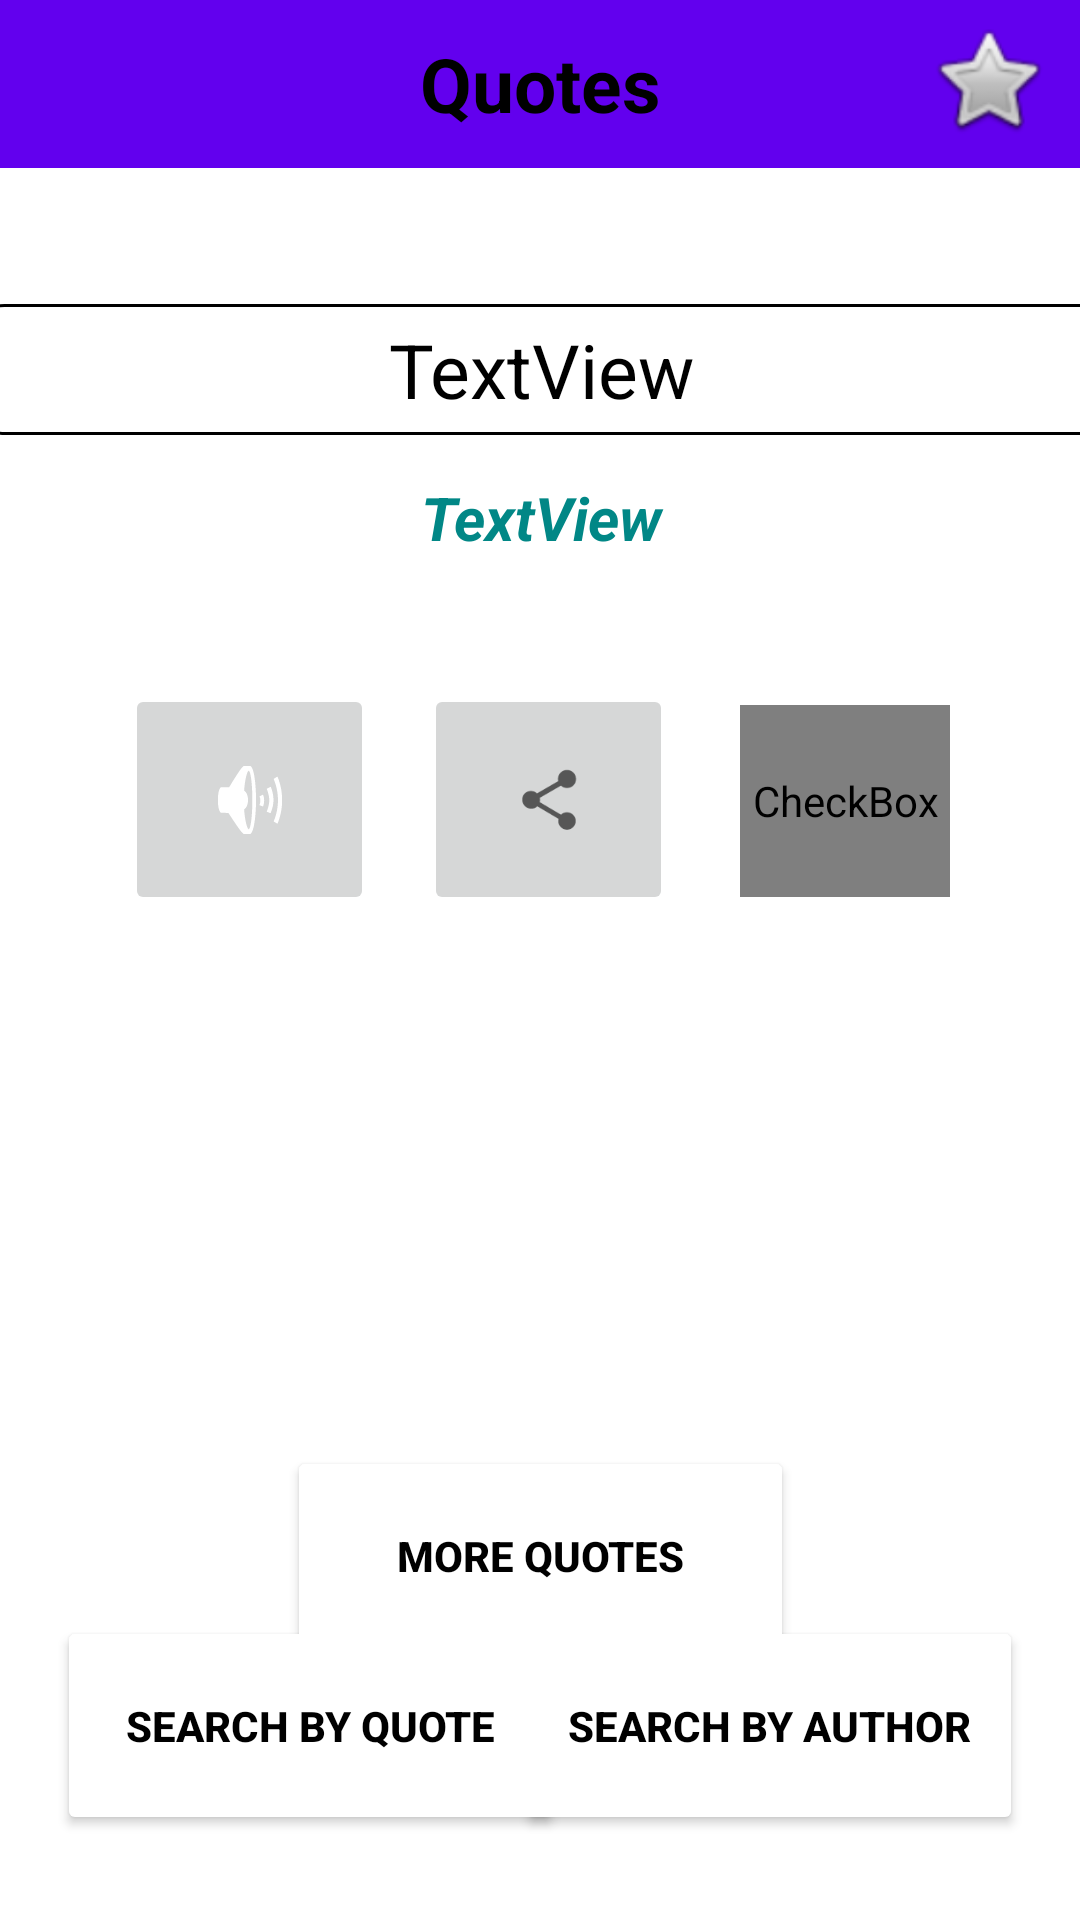

Screen size 1080x1920. Icon name, then its box in pixels as (x1, y1, x2, y2):
lock silent mode off: (137, 702, 362, 897)
star: (938, 31, 1040, 130)
